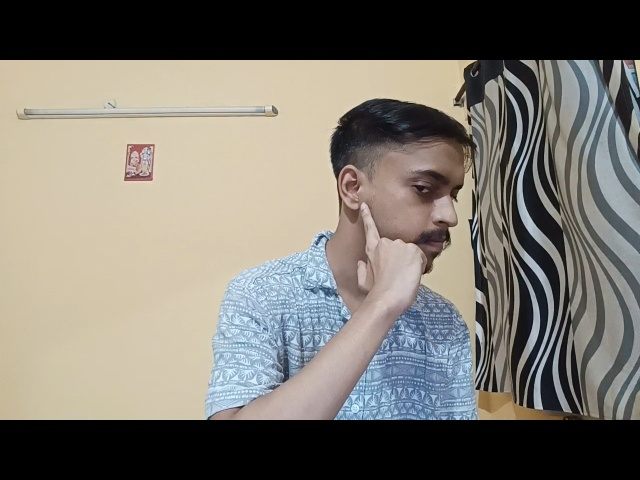Deaf: (304, 128, 436, 325)
